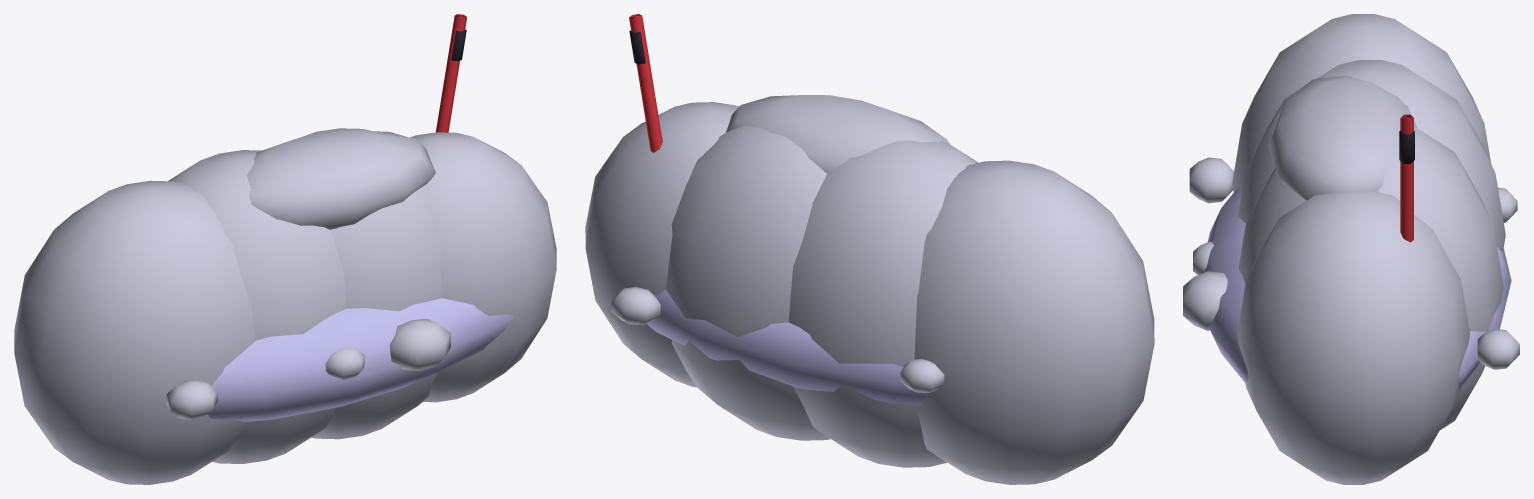
Rendered from frost_snowbank.glb.
3 views of the same model, side by side, from view 1: azimuth 30°, elevation 25°; view 2: azimuth 150°, elevation 25°; view 3: azimuth 270°, elevation 25° (orthographic). The views are drawn at different scales.
Visible parts, largest first — view 1: Snowbank; view 2: Snowbank; view 3: Snowbank.
Boxes of the visible parts, <box> form: Snowbank: <box>14,14,556,484</box>; Snowbank: <box>585,14,1154,484</box>; Snowbank: <box>1183,14,1519,484</box>.
Bounding box in the file's own units: 3.73 × 2.57 × 1.94.
